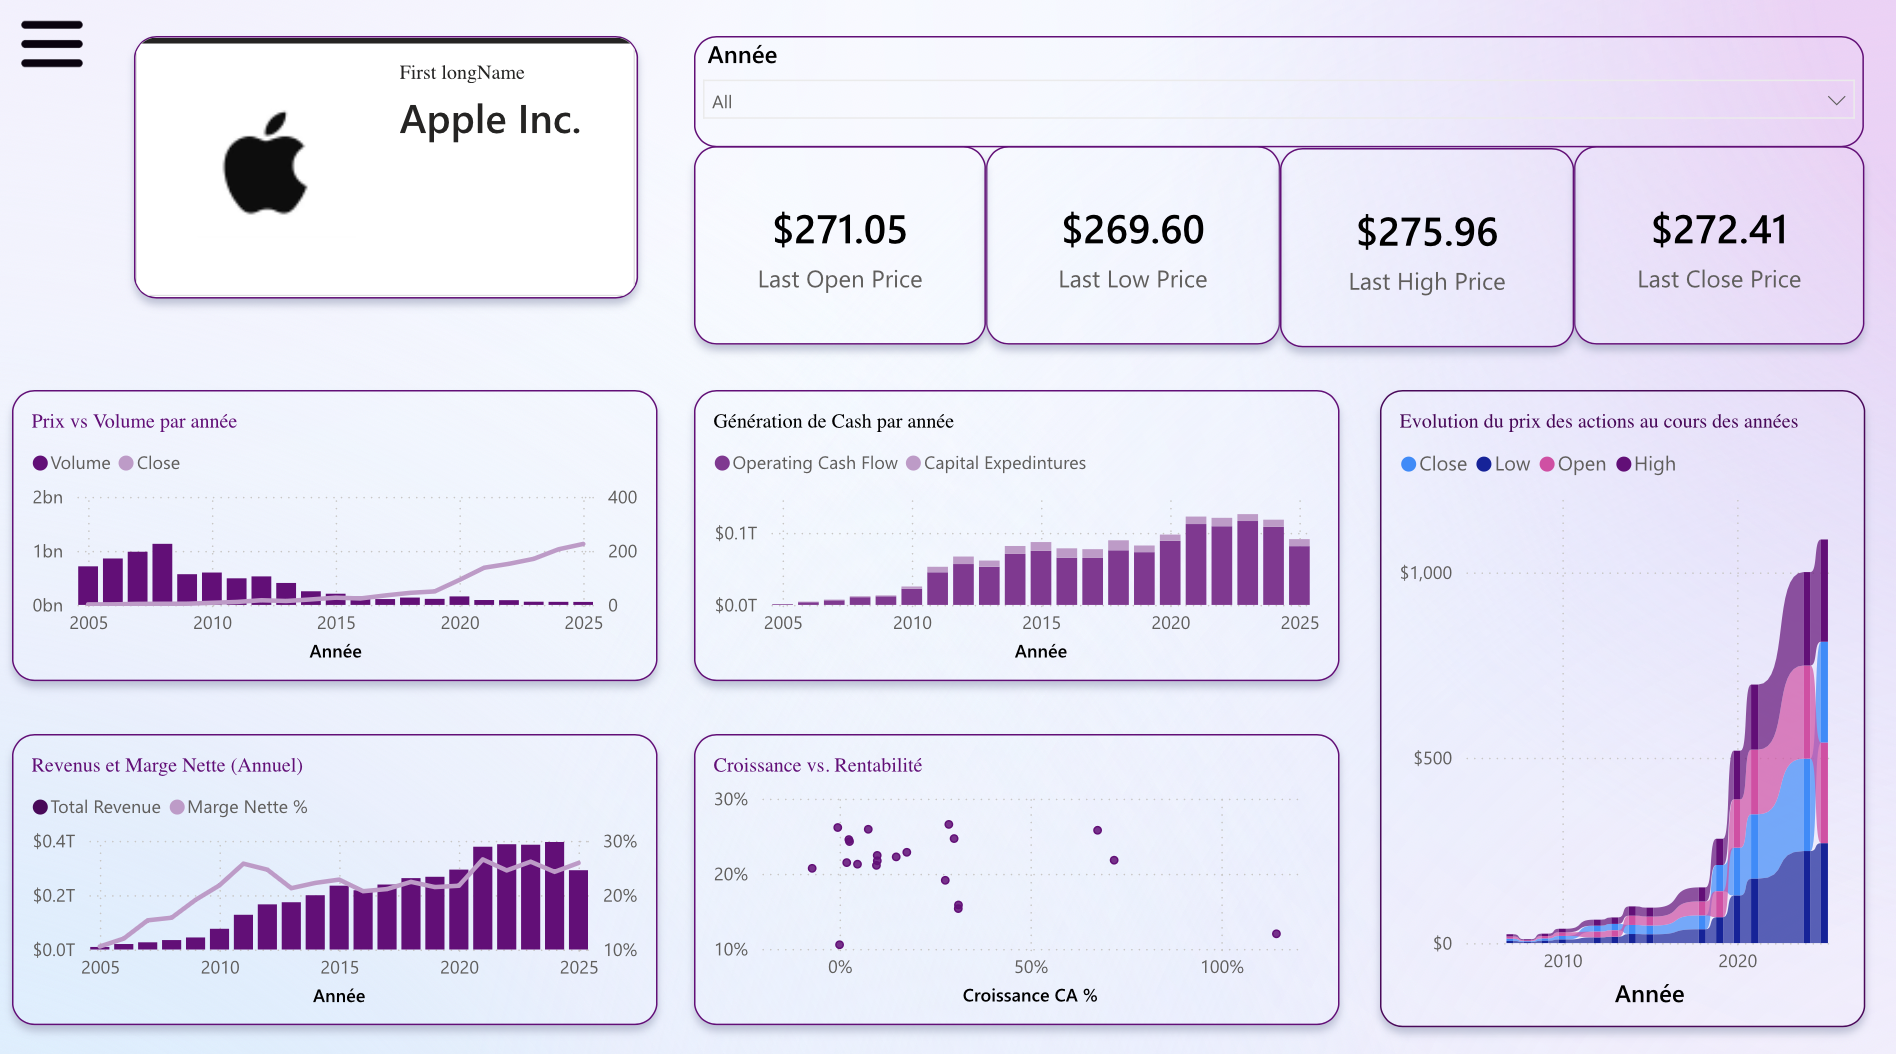

What the dashboard file says about the page in this screenshot:
{"tool":"powerbi","page":{"name":"Overview 2","canvas":[1280,720],"ordinal":2},"visuals":[{"type":"card","fields":{"Values":["_Mesures.Last Close Price"]},"box":[1047.3,103,193.1,132],"z":0},{"type":"lineClusteredColumnComboChart","title":"Prix vs Volume par année","fields":{"Category":["Calendriers.Date.Variation.Hiérarchie de dates.Année","Calendriers.Date.Variation.Hiérarchie de dates.Mois","Calendriers.Date.Variation.Hiérarchie de dates.Jour"],"Y":["Avg(ALL_PRICES.Volume)"],"Y2":["Avg(ALL_PRICES.Close)"]},"box":[9.7,264,429.2,193.1],"z":1000},{"type":"columnChart","title":"Génération de Cash par année","fields":{"Category":["Calendriers.Date.Variation.Hiérarchie de dates.Année","Calendriers.Date.Variation.Hiérarchie de dates.Trimestre"],"Y":["_Mesures.CashOps","_Mesures.Capex"]},"box":[462.5,264,429.2,193.1],"z":2000},{"type":"lineStackedColumnComboChart","title":"Revenus et Marge Nette (Annuel)","fields":{"Category":["Calendriers.Date.Variation.Hiérarchie de dates.Année"],"Y2":["_Mesures.Marge Nette %"],"Y":["_Mesures.Total Revenue"]},"box":[9.9,493.7,428.9,193.5],"z":3000},{"type":"card","fields":{"Values":["_Mesures.Last Low Price"]},"box":[656.7,103,195.3,132],"z":4000},{"type":"scatterChart","title":"Croissance vs. Rentabilité","fields":{"Category":["Calendriers.Date.Variation.Hiérarchie de dates.Année"],"X":["_Mesures.Croissance CA %"],"Y":["_Mesures.Marge Nette %"]},"box":[462.5,493.6,429.2,193.1],"z":5000},{"type":"card","fields":{"Values":["_Mesures.Last Open Price"]},"box":[462.5,103,194.2,132],"z":6000},{"type":"slicer","fields":{"Values":["Calendriers.Date.Variation.Hiérarchie de dates.Année","Calendriers.Date.Variation.Hiérarchie de dates.Mois","Calendriers.Date.Variation.Hiérarchie de dates.Jour"]},"box":[463,29.7,777.5,73.7],"z":7000},{"type":"card","fields":{"Values":["_Mesures.Last High Price"]},"box":[851.4,103.2,195.5,132.5],"z":8000},{"type":"ribbonChart","title":"Evolution du prix des actions au cours des années","fields":{"Y":["_Mesures.Last Close Price","_Mesures.Last Low Price","_Mesures.Last Open Price","_Mesures.Last High Price"],"Category":["LocalDateTable_a3a549f4-0699-475d-9998-67b944cf3438.Année"]},"box":[918.7,263.9,322.5,423.5],"z":9000},{"type":"cardVisual","fields":{"Data":["Min(Dim_Company.longName)"]},"box":[90.2,29.1,334.9,174.3],"z":10000},{"type":"actionButton","title":"Open","box":[1.5,0,68.8,68.8],"z":11000}]}

Visuals, with their boxes in screenshot pixels (x1, y1, x2, y2), scaled from the page's 1280x720 canvas onto the 1896x1054 screenshot:
card - _Mesures.Last Close Price: {"x1": 1551, "y1": 151, "x2": 1837, "y2": 344}
"Prix vs Volume par année" lineClusteredColumnComboChart: {"x1": 14, "y1": 386, "x2": 650, "y2": 669}
"Génération de Cash par année" columnChart: {"x1": 685, "y1": 386, "x2": 1321, "y2": 669}
"Revenus et Marge Nette (Annuel)" lineStackedColumnComboChart: {"x1": 15, "y1": 723, "x2": 650, "y2": 1006}
card - _Mesures.Last Low Price: {"x1": 973, "y1": 151, "x2": 1262, "y2": 344}
"Croissance vs. Rentabilité" scatterChart: {"x1": 685, "y1": 723, "x2": 1321, "y2": 1005}
card - _Mesures.Last Open Price: {"x1": 685, "y1": 151, "x2": 973, "y2": 344}
slicer - Calendriers.Date.Variation.Hiérarchie de dates.Année x Calendriers.Date.Variation.Hiérarchie de dates.Mois: {"x1": 686, "y1": 43, "x2": 1837, "y2": 151}
card - _Mesures.Last High Price: {"x1": 1261, "y1": 151, "x2": 1551, "y2": 345}
"Evolution du prix des actions au cours des années" ribbonChart: {"x1": 1361, "y1": 386, "x2": 1839, "y2": 1006}
cardVisual - Min(Dim_Company.longName): {"x1": 134, "y1": 43, "x2": 630, "y2": 298}
"Open" actionButton: {"x1": 2, "y1": 0, "x2": 104, "y2": 101}
